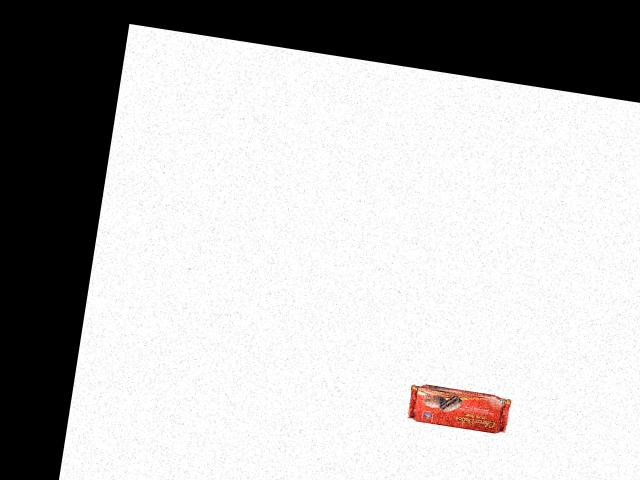chocolate: (404, 372, 514, 435)
